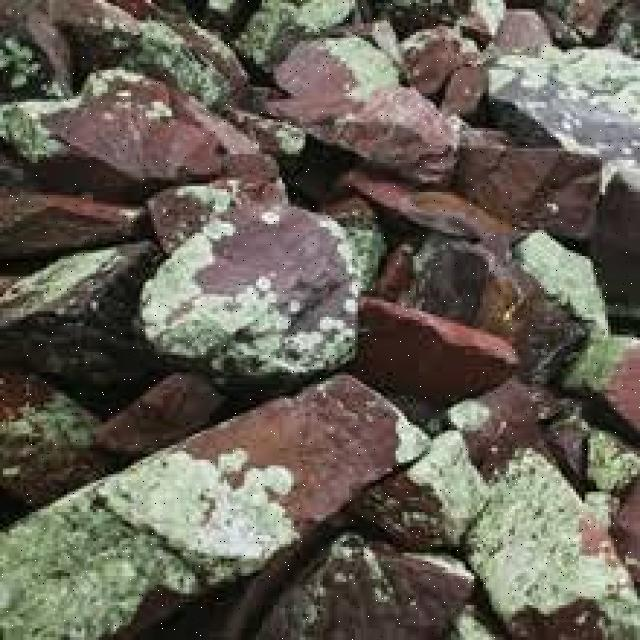Metamorphic: (9, 3, 634, 640)
